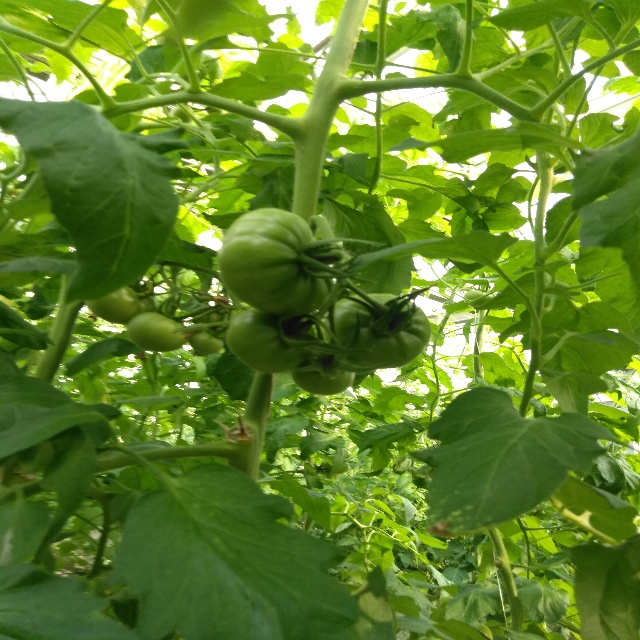b_green: (218, 207, 334, 313), (325, 293, 431, 370), (227, 308, 320, 373), (83, 286, 157, 325), (292, 353, 354, 394), (126, 312, 186, 352), (190, 332, 224, 355)
